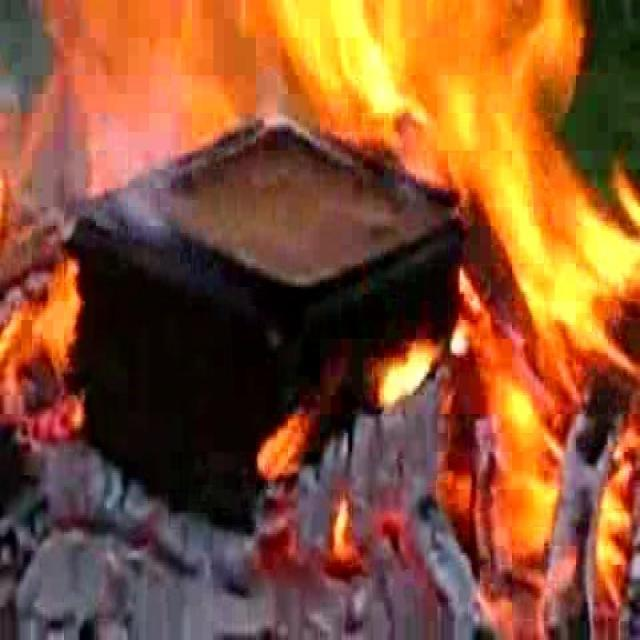Fire: (437, 6, 630, 384), (37, 5, 428, 190)
